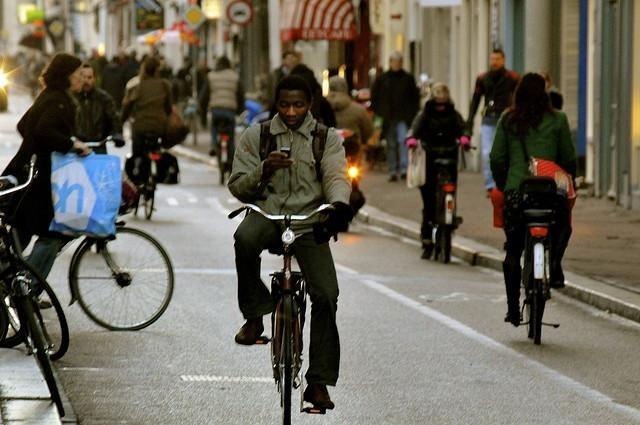bicycle: (230, 208, 330, 420), (0, 154, 66, 415), (70, 220, 175, 336), (516, 208, 562, 344), (435, 158, 464, 263), (128, 149, 160, 220), (214, 113, 230, 187)
